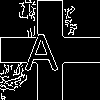A: (25, 25, 59, 70)
